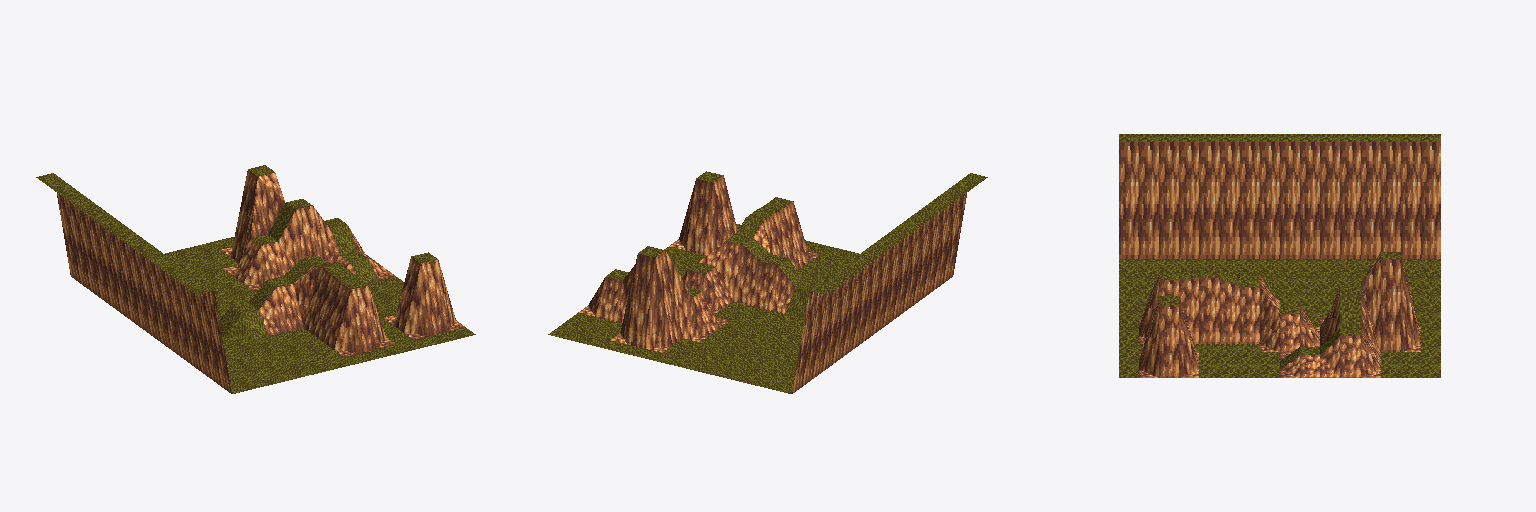
3 views of the same model, side by side, from view 1: azimuth 30°, elevation 25°; view 2: azimuth 150°, elevation 25°; view 3: azimuth 270°, elevation 25° (orthographic).
Parts seen in each view (by area): view 1: Plane; view 2: Plane; view 3: Plane.
Boxes of the visible parts, box(x1,y1,x2,y2) form: Plane: box(36, 165, 475, 393); Plane: box(548, 171, 987, 393); Plane: box(1119, 134, 1440, 377).
Size of the model in its own units: 20 by 7.38 by 20.
2 materials, 2 textured.